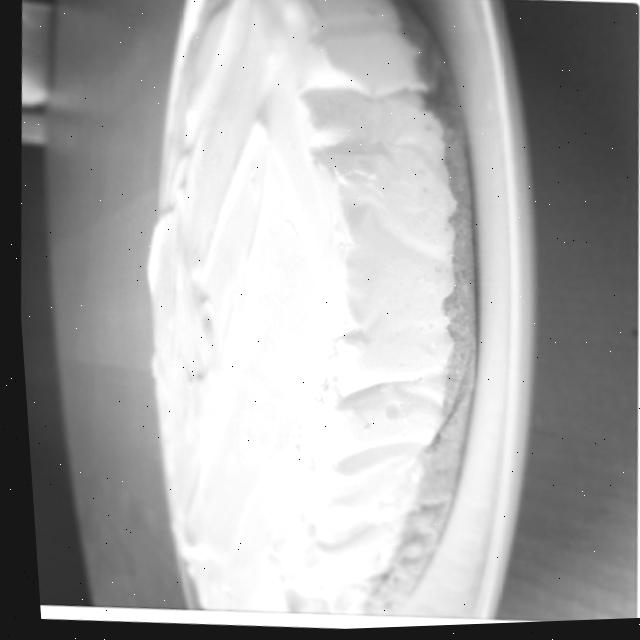鸡蛋料理: (2, 19, 635, 502)
